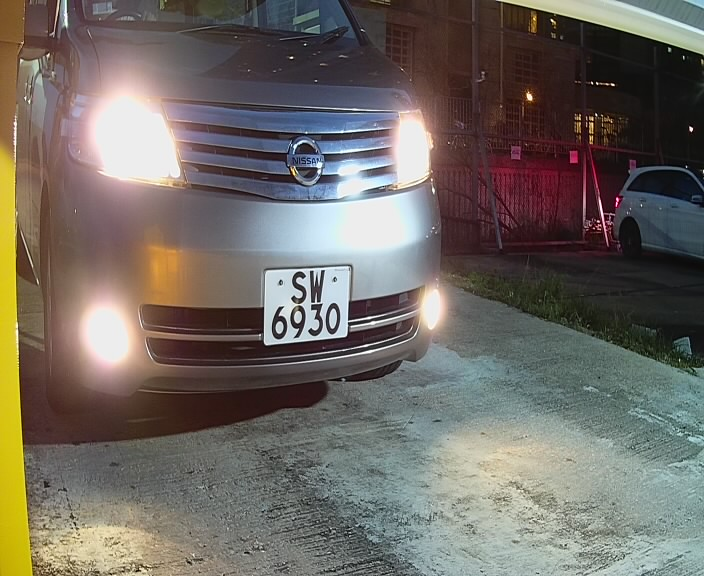Car: (4, 2, 465, 460)
License Plate: (254, 259, 363, 355)
